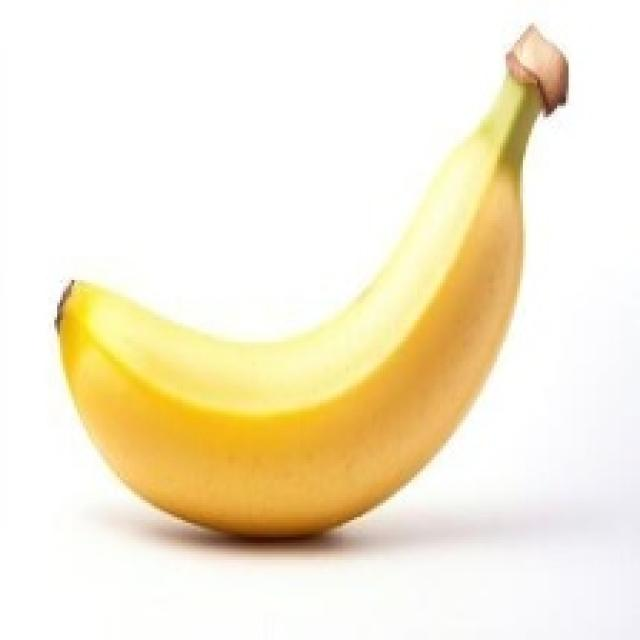Banana: (51, 20, 568, 540)
